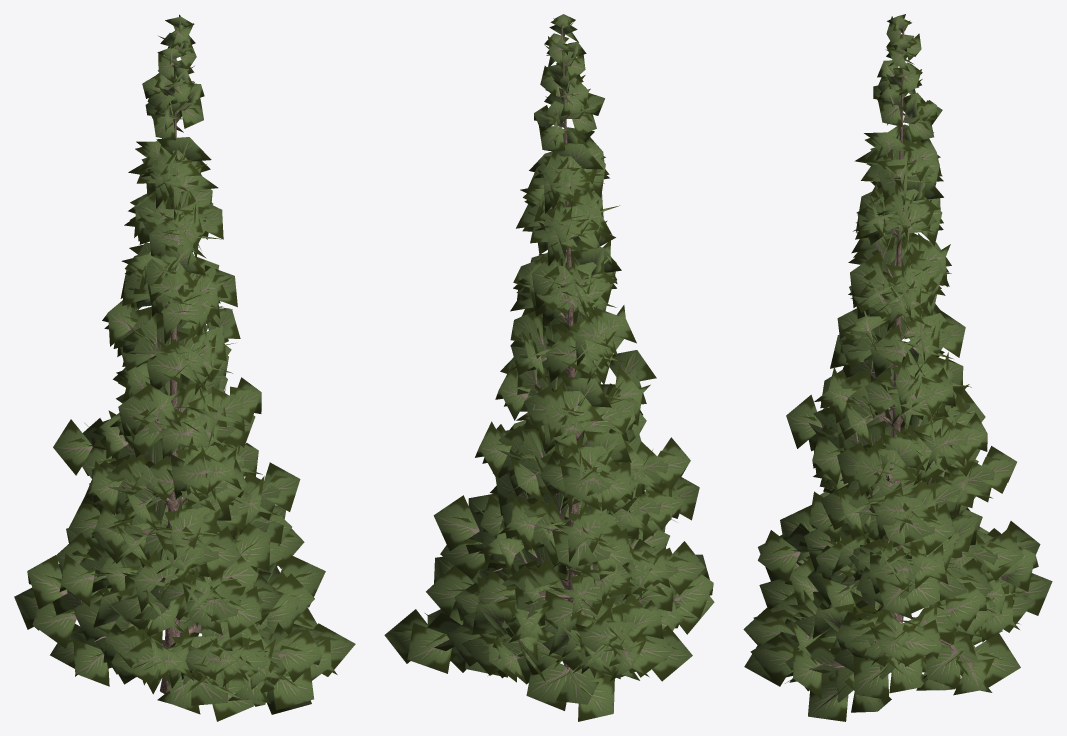
The model's file is fir-01.gltf.
The picture shows the model from 3 angles, left to right: view 1: azimuth 30°, elevation 25°; view 2: azimuth 150°, elevation 25°; view 3: azimuth 270°, elevation 25°; orthographic projection. The views are drawn at different scales.
Visible parts, largest first — view 1: fir-01; view 2: fir-01; view 3: fir-01.
Part boxes in pixels (x1,y1,x2,y2): fir-01: [14, 14, 355, 721]; fir-01: [384, 14, 714, 721]; fir-01: [743, 14, 1052, 721].
Size of the model in its own units: 296 by 724 by 303.
Materials: 2 (2 with a texture image).
